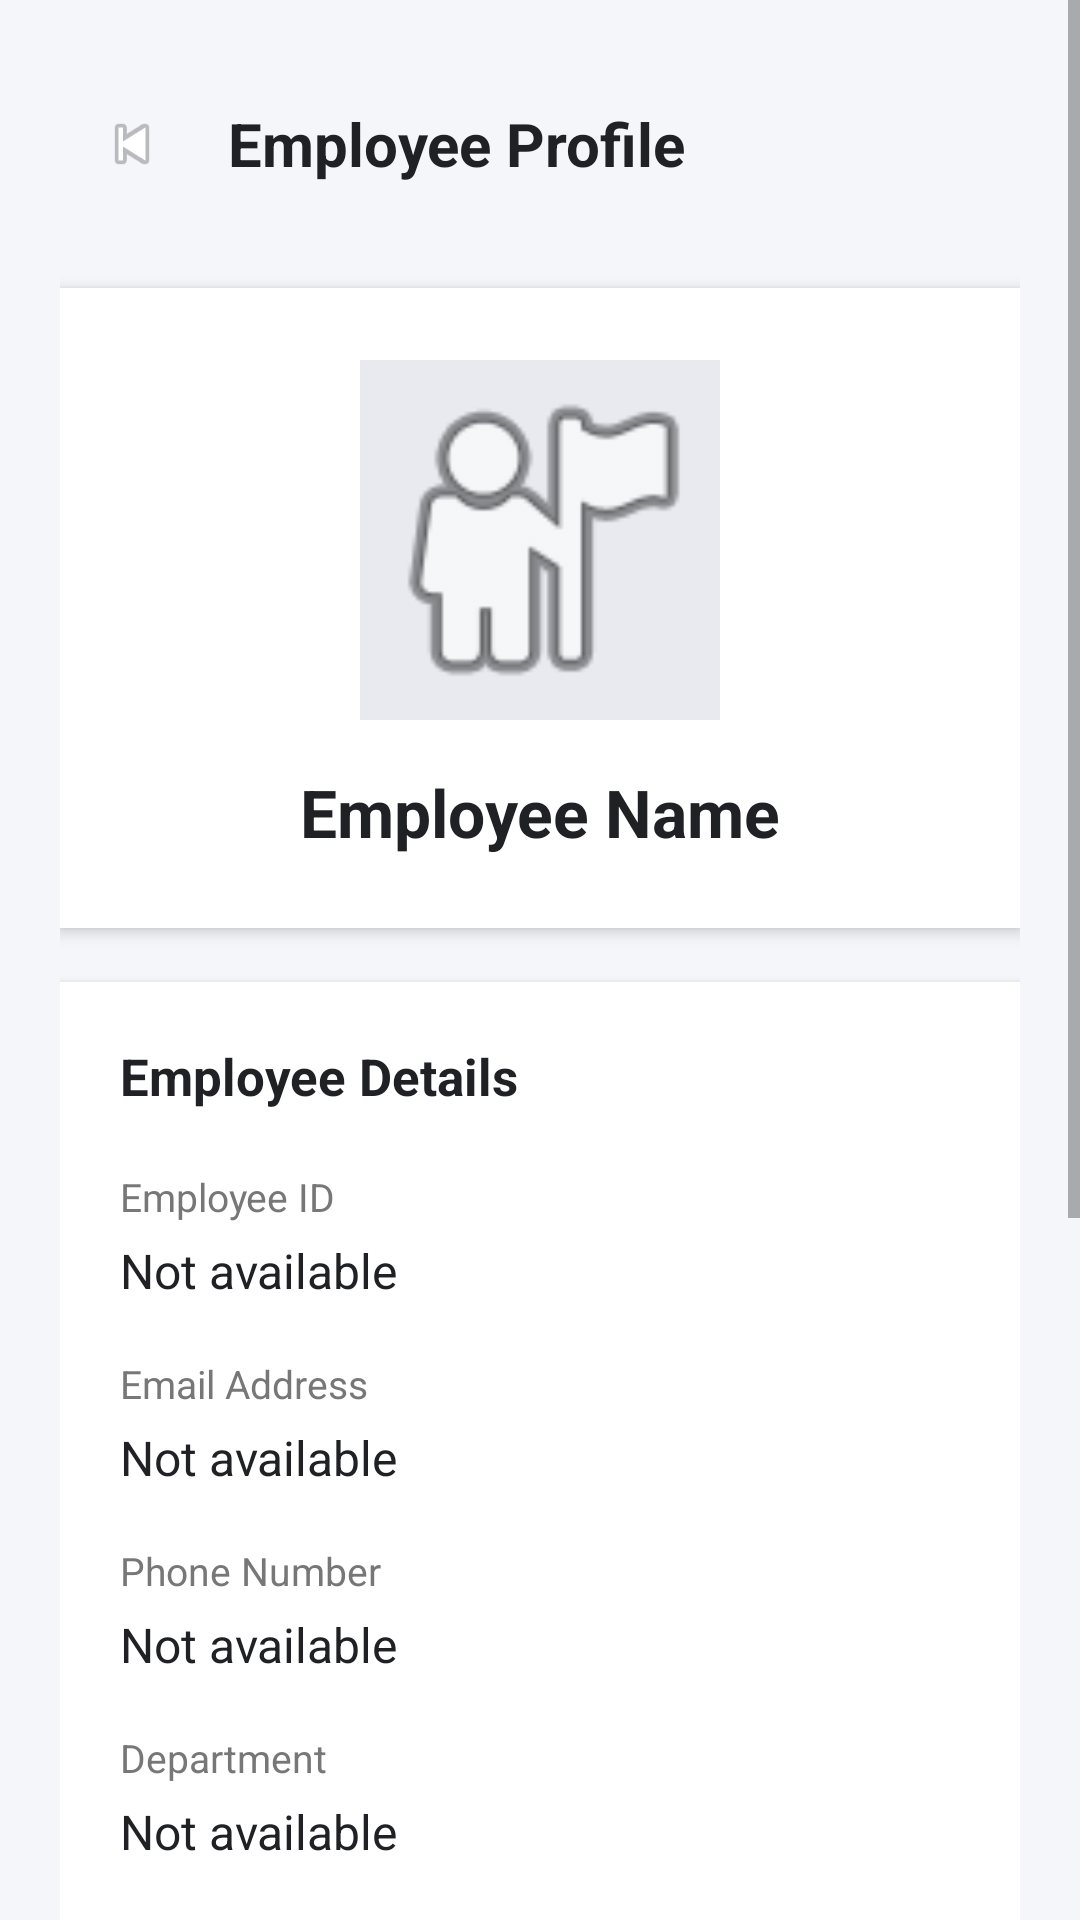

Where to tap for icons on this 1080×1920 app screen, as [x,y]:
Back: [132,144]
Employee profile photo: [540,540]
